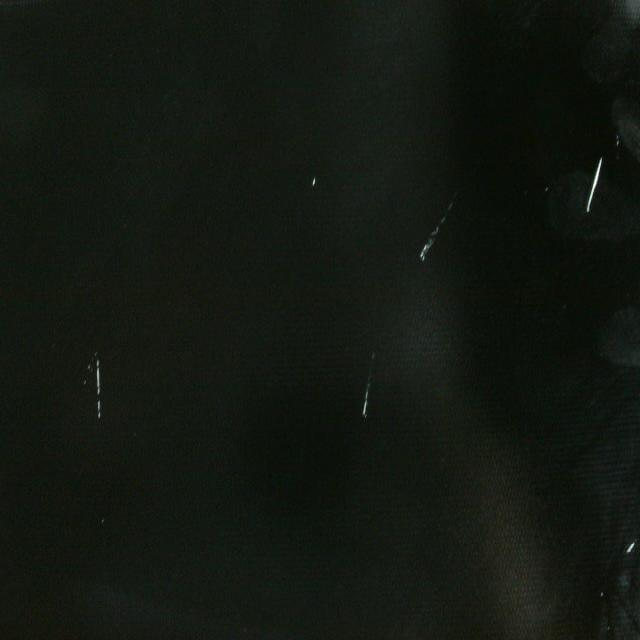scratch: (419, 190, 466, 267), (352, 345, 383, 425), (88, 348, 114, 425), (580, 152, 609, 218)
very small scratch: (625, 528, 640, 567), (308, 168, 322, 194)
